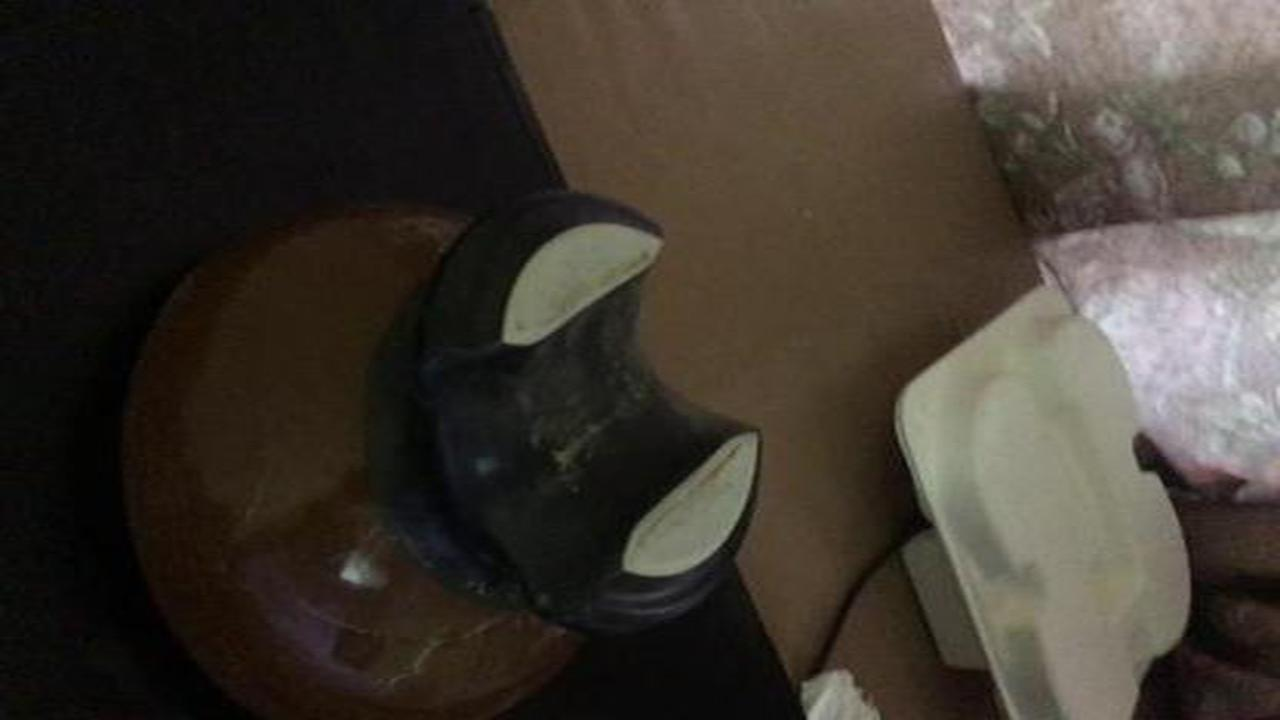insulator_pin: (87, 187, 788, 710)
